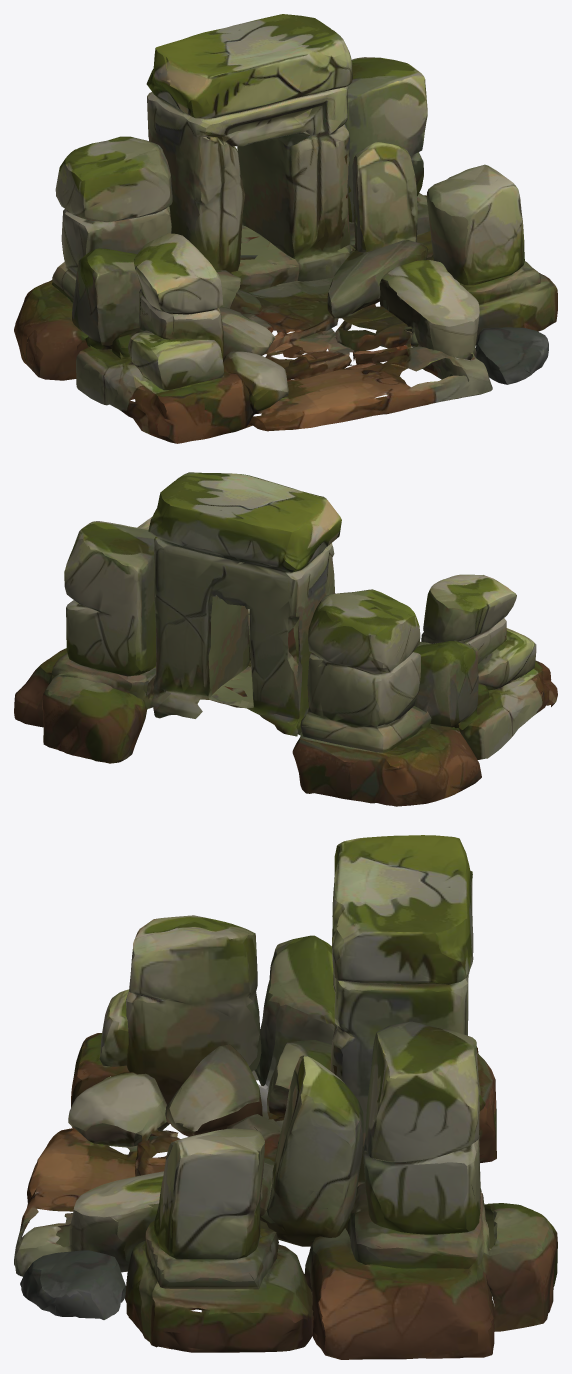
Rendered from ruin_debris.glb.
The picture shows the model from 3 angles, top to bottom: view 1: azimuth 30°, elevation 25°; view 2: azimuth 150°, elevation 25°; view 3: azimuth 270°, elevation 25°; orthographic projection. The views are drawn at different scales.
Visible parts, largest first — view 1: ruin_debris; view 2: ruin_debris; view 3: ruin_debris.
Boxes of the visible parts, x1=… form: ruin_debris: x1=14, y1=14, x2=557, y2=443; ruin_debris: x1=14, y1=472, x2=557, y2=806; ruin_debris: x1=14, y1=835, x2=557, y2=1359.
Size of the model in its own units: 1.6 by 0.9079 by 1.3.
Materials: 1 (1 with a texture image).
